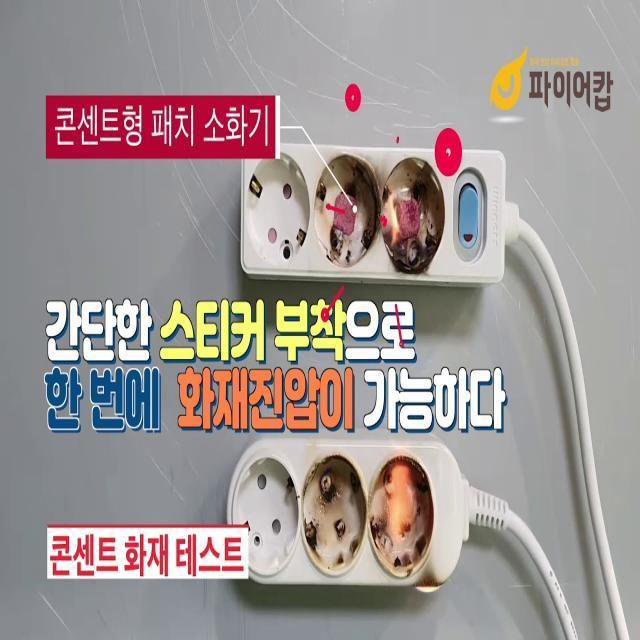typeb: (222, 437, 303, 608)
